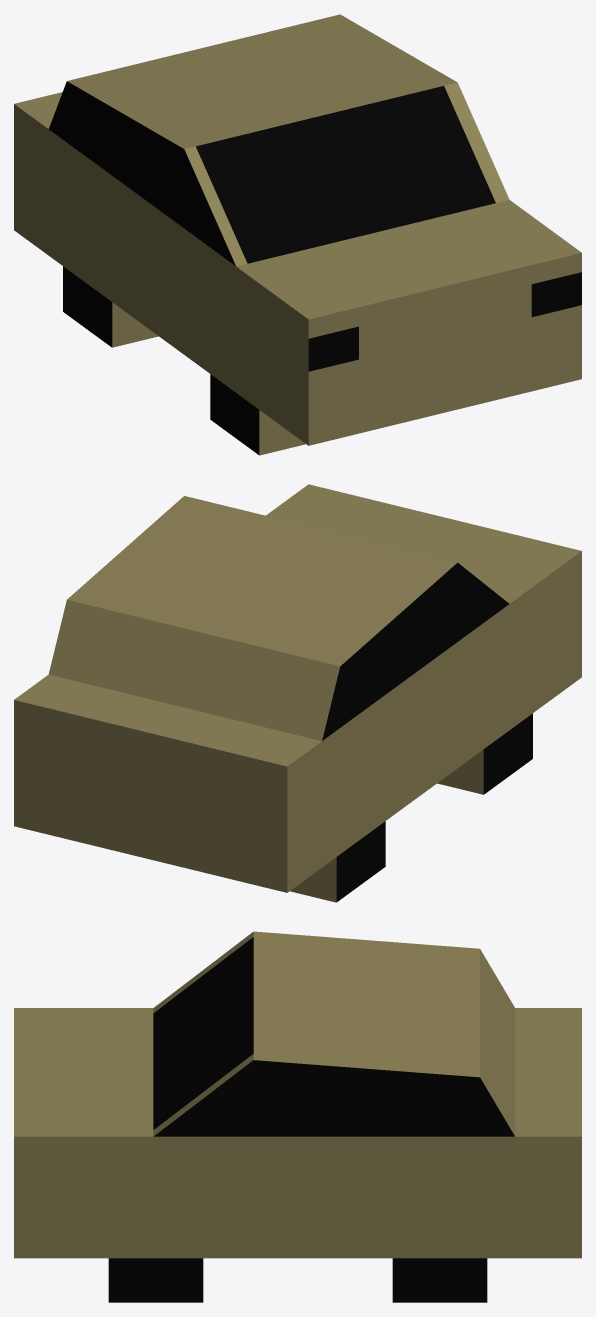
Rendered from Car.fbx.
3 views of the same model, one above another, from view 1: azimuth 30°, elevation 25°; view 2: azimuth 150°, elevation 25°; view 3: azimuth 270°, elevation 25° (orthographic). The views are drawn at different scales.
Parts seen in each view (by area): view 1: Cube; view 2: Cube; view 3: Cube.
Boxes of the visible parts, x1=… form: Cube: x1=14, y1=14, x2=581, y2=455; Cube: x1=14, y1=484, x2=581, y2=902; Cube: x1=14, y1=931, x2=581, y2=1302.
Bounding box in the file's own units: 200 × 176 × 373.
